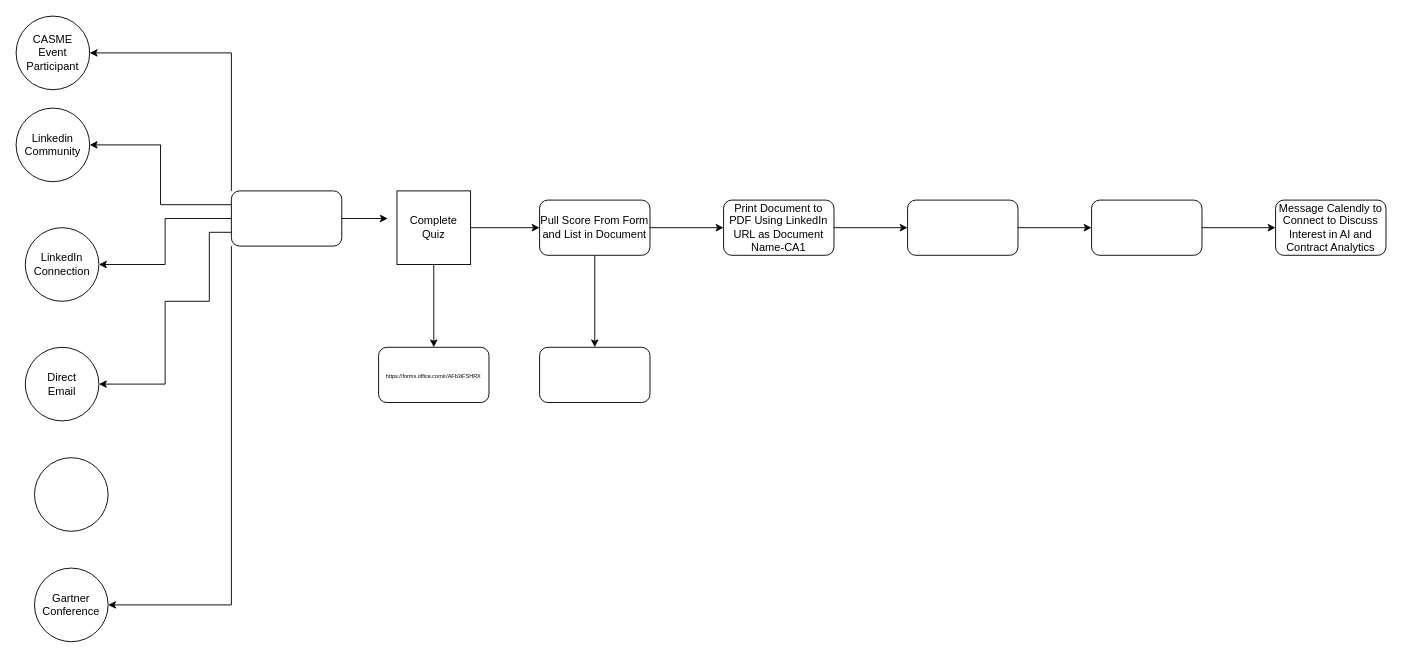
Image size: 1402x658. Some labels were removed from this diagram. The shapes that lost their labels are listed below. From the top down, each one's box as (x1, y1, x2, y2) in pixels, then its label:
(230, 190, 342, 246): Assessment Link
(907, 199, 1018, 255): Pull LinkedIn URL
(1091, 199, 1202, 255): Message Thank You and Attach Assessment
(539, 346, 650, 402): Are Your Contracts AI Ready - Assesment.docx
(34, 457, 108, 531): Webinar Participant
